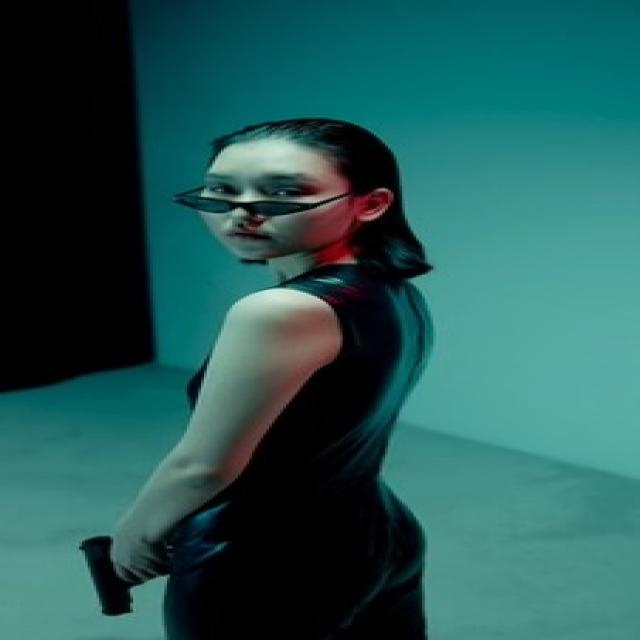Gun_Holder: (55, 520, 195, 624)
Person: (117, 117, 442, 640)
